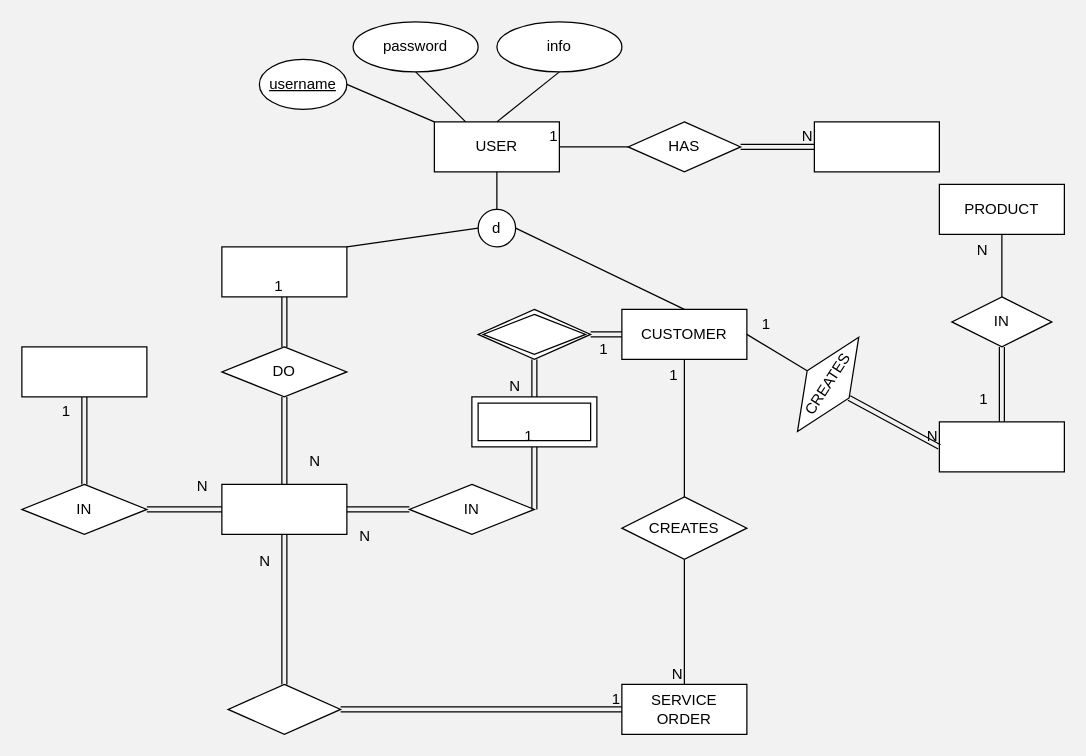
This 1086x756 diagram has some shape labels left out. Here are the shapes that lost their labels. From the top down, the box of each, then its label:
(813, 121, 939, 172): NOTIFICATION
(221, 246, 347, 297): STAFF
(477, 308, 591, 359): OWNS
(21, 346, 147, 397): SERVICE
(471, 396, 597, 447): PET
(938, 421, 1064, 472): PRODUCT ORDER
(221, 483, 347, 534): SERVICE DETAIL
(227, 683, 341, 734): CONTAINS
